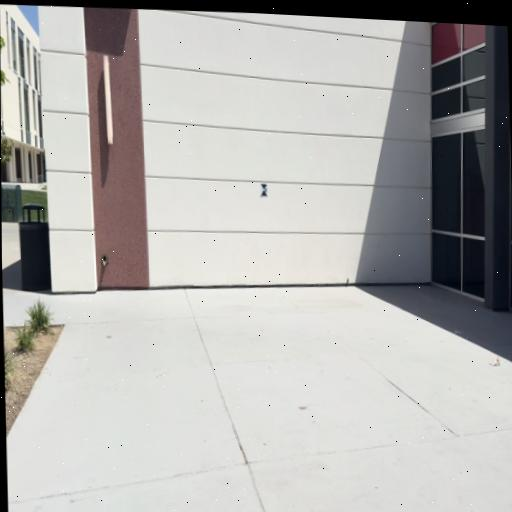target0: (260, 184, 267, 196)
